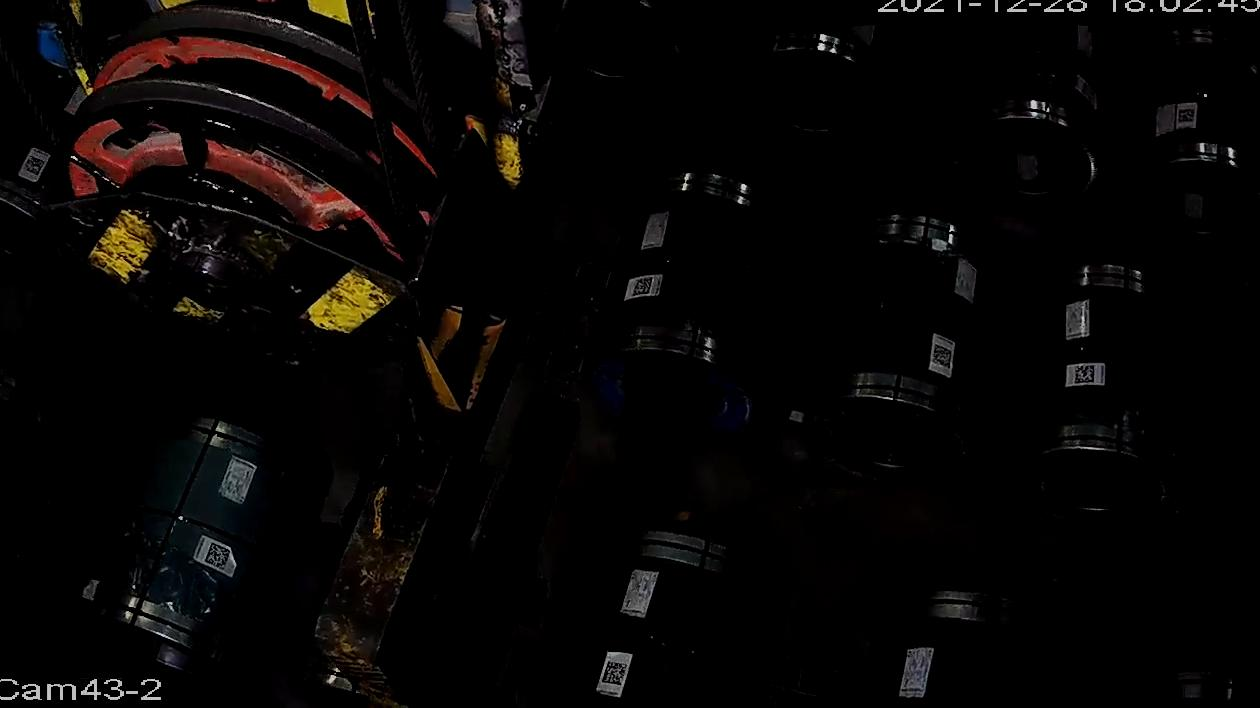data matrix: (204, 542, 233, 572), (602, 660, 630, 688), (933, 344, 954, 371), (24, 155, 47, 178), (1073, 364, 1097, 386), (632, 277, 655, 298), (1178, 108, 1197, 125)
